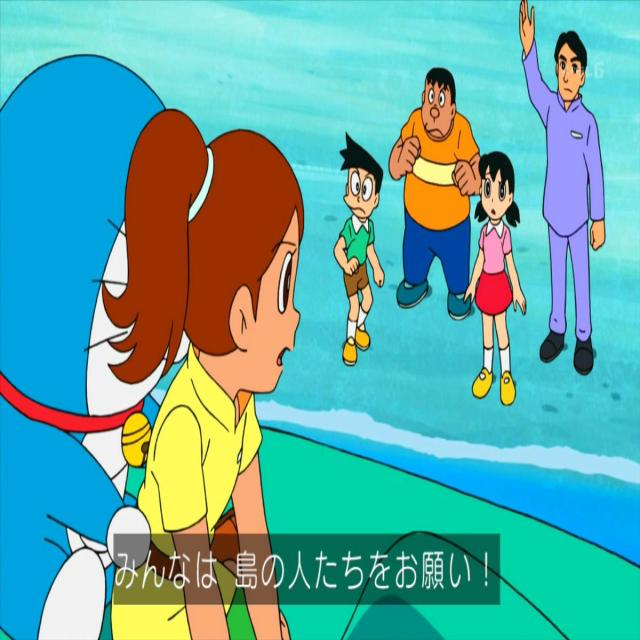jaian: (417, 59, 459, 148)
shizuka: (475, 147, 522, 224)
suneo: (335, 129, 383, 224)
